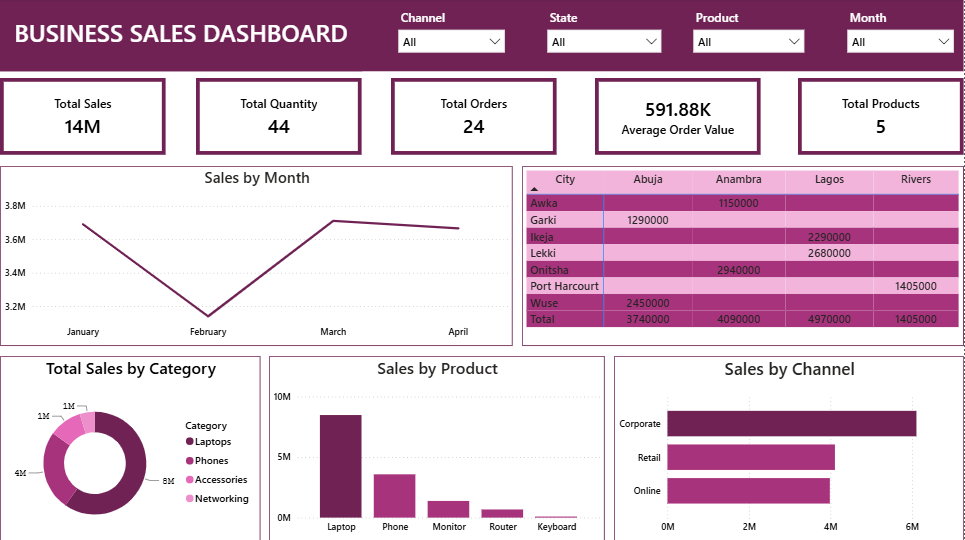

This screenshot's page, from the dashboard's own definition file:
{"tool":"powerbi","page":{"name":"Sales Dashboard","canvas":[1280,720],"ordinal":0},"visuals":[{"type":"textbox","box":[0,0,1280,95.7],"z":0},{"type":"cardVisual","fields":{"Data":["Sales.Total Sales"]},"box":[0,104.3,220,102],"z":1000},{"type":"cardVisual","fields":{"Data":["Sales.Total Orders"]},"box":[520,104.3,220,102],"z":2000},{"type":"cardVisual","fields":{"Data":["Sales.Total Quantity"]},"box":[260,104.3,220,102],"z":3000},{"type":"cardVisual","fields":{"Data":["Sales.Average Order Value"]},"box":[790,104.3,220,102],"z":4000},{"type":"slicer","fields":{"Values":["Sales.State"]},"box":[717.1,8.6,171.4,74.3],"z":5000},{"type":"slicer","fields":{"Values":["Sales.Product"]},"box":[911.4,8.6,167.1,74.3],"z":6000},{"type":"slicer","fields":{"Values":["Sales.Channel"]},"box":[520,8.6,161.4,74.3],"z":7000},{"type":"slicer","fields":{"Values":["Sales.Date.Variation.Date Hierarchy.Month"]},"box":[1115.7,8.6,161.4,74.3],"z":8000},{"type":"lineChart","title":"Sales by Month","fields":{"Y":["Sales.Total Sales"],"Category":["Sales.Date.Variation.Date Hierarchy.Month"]},"box":[0,221.6,681.3,239.5],"z":10000},{"type":"columnChart","title":"Sales by Product","fields":{"Y":["Sales.Total Sales"],"Category":["Sales.Product"]},"box":[357.1,474.3,445.7,245.7],"z":11000},{"type":"barChart","title":"Sales by Channel","fields":{"Category":["Sales.Channel"],"Y":["Sales.Total Sales"]},"box":[815.6,474.2,464.9,245.8],"z":12000},{"type":"donutChart","fields":{"Y":["Sales.Total Sales"],"Category":["Sales.Category"]},"box":[0,474.3,346,245.7],"z":13000},{"type":"cardVisual","fields":{"Data":["Sales.Total Products","Sales.Total Products"]},"box":[1060,104.3,220,102],"z":14000},{"type":"pivotTable","fields":{"Values":["Sales.Total Sales"],"Rows":["Sales.City"],"Columns":["Sales.State"]},"box":[693.4,221.8,587.2,239.1],"z":15000},{"type":"textbox","box":[0,0,480.9,95.6],"z":15001}]}

Visuals, with their boxes in screenshot pixels (x1, y1, x2, y2), scaled from the page's 1280x720 canvas onto the 965x540 screenshot:
textbox: <bbox>0, 0, 964, 72</bbox>
cardVisual - Sales.Total Sales: <bbox>0, 78, 166, 155</bbox>
cardVisual - Sales.Total Orders: <bbox>392, 78, 558, 155</bbox>
cardVisual - Sales.Total Quantity: <bbox>196, 78, 362, 155</bbox>
cardVisual - Sales.Average Order Value: <bbox>596, 78, 761, 155</bbox>
slicer - Sales.State: <bbox>541, 6, 670, 62</bbox>
slicer - Sales.Product: <bbox>687, 6, 813, 62</bbox>
slicer - Sales.Channel: <bbox>392, 6, 514, 62</bbox>
slicer - Sales.Date.Variation.Date Hierarchy.Month: <bbox>841, 6, 963, 62</bbox>
"Sales by Month" lineChart: <bbox>0, 166, 514, 346</bbox>
"Sales by Product" columnChart: <bbox>269, 356, 605, 539</bbox>
"Sales by Channel" barChart: <bbox>615, 356, 964, 539</bbox>
donutChart - Sales.Total Sales x Sales.Category: <bbox>0, 356, 261, 539</bbox>
cardVisual - Sales.Total Products x Sales.Total Products: <bbox>799, 78, 964, 155</bbox>
pivotTable - Sales.Total Sales x Sales.City: <bbox>523, 166, 964, 346</bbox>
textbox: <bbox>0, 0, 363, 72</bbox>
